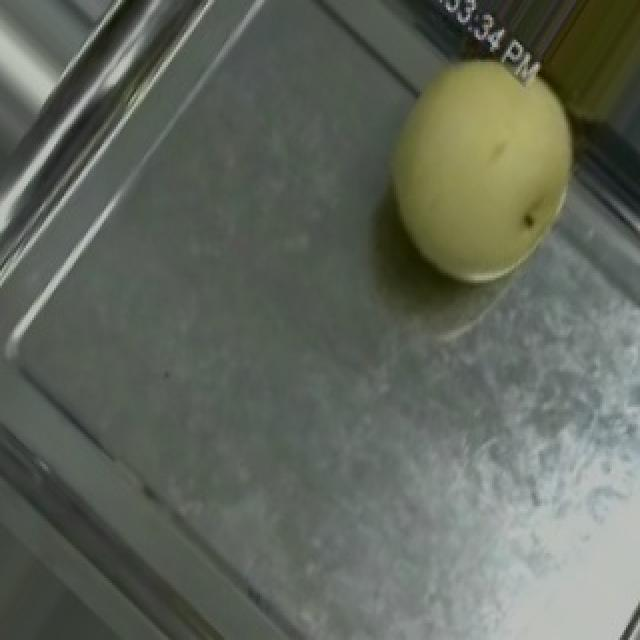Fruit: (340, 12, 616, 318)
